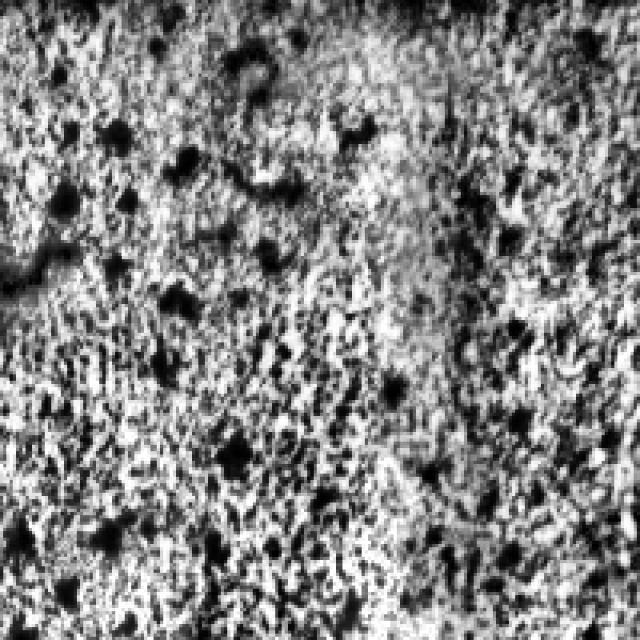Rolled_in_Scale: (3, 29, 416, 637), (314, 45, 586, 628)
